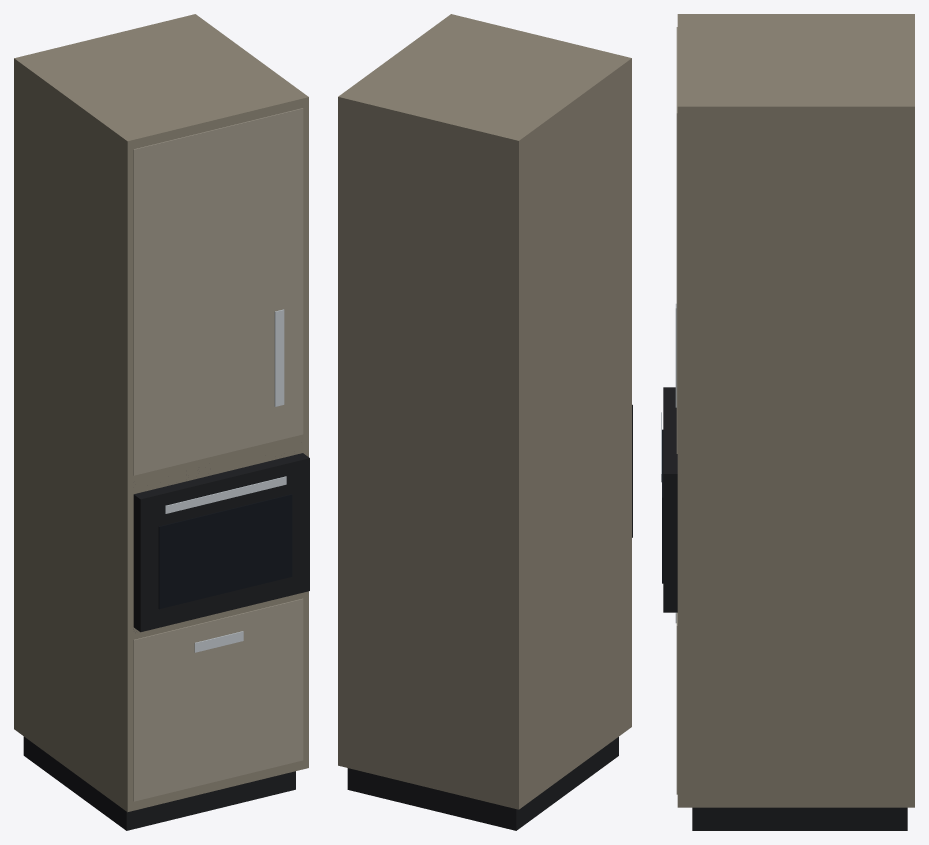
The model's file is kitchen_tower.glb.
The picture shows the model from 3 angles, left to right: view 1: azimuth 30°, elevation 25°; view 2: azimuth 150°, elevation 25°; view 3: azimuth 270°, elevation 25°; orthographic projection. The views are drawn at different scales.
Parts seen in each view (by area): view 1: kitchen_tower_Body, kitchen_tower_OvenDoor; view 2: kitchen_tower_Body; view 3: kitchen_tower_Body, kitchen_tower_OvenDoor.
Boxes of the visible parts, bbox=[...] form: kitchen_tower_Body: bbox=[14, 14, 308, 830]; kitchen_tower_OvenDoor: bbox=[133, 453, 309, 632]; kitchen_tower_Body: bbox=[338, 14, 631, 830]; kitchen_tower_Body: bbox=[675, 14, 914, 830]; kitchen_tower_OvenDoor: bbox=[661, 387, 677, 612].
Bounding box in the file's own units: 0.6 × 2.2 × 0.696.
